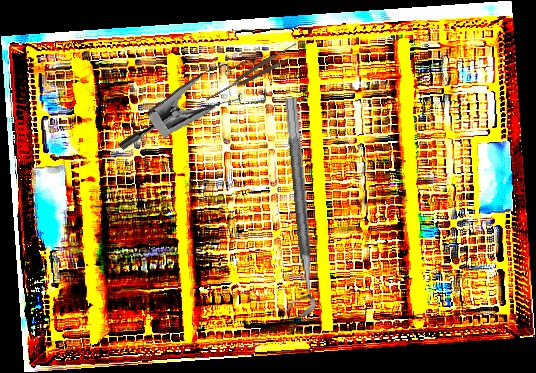Fixation Ring: (265, 96, 318, 319)
Speculum: (116, 31, 281, 198)
Tissue Forceps: (202, 41, 303, 106)
